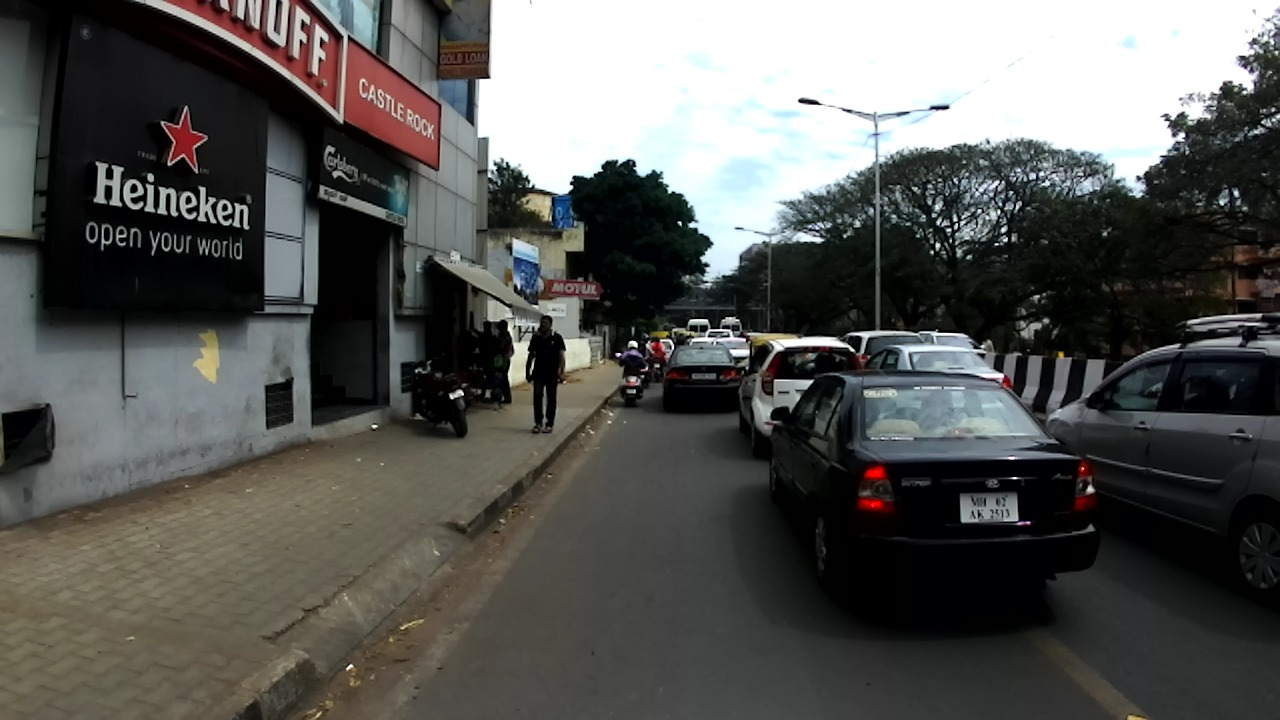autorickshaw: (745, 333, 802, 366), (647, 328, 671, 345)
bus: (719, 317, 742, 340), (686, 318, 710, 340)
car: (767, 370, 1099, 598), (1046, 315, 1279, 602), (737, 337, 859, 461), (861, 343, 1012, 398), (660, 342, 736, 410), (910, 331, 987, 385), (843, 331, 925, 378), (713, 334, 755, 375), (668, 328, 694, 344), (704, 330, 734, 341), (739, 332, 762, 343)
motorcycle: (408, 359, 467, 439), (612, 353, 644, 407), (640, 350, 666, 384)
person: (526, 315, 566, 435), (469, 311, 498, 400), (487, 320, 513, 405)
rider: (619, 341, 645, 386), (644, 337, 667, 365), (648, 337, 666, 364), (974, 333, 994, 356), (637, 331, 649, 355), (680, 333, 685, 347), (674, 331, 678, 345)
vehicle fallback: (664, 322, 678, 331)
